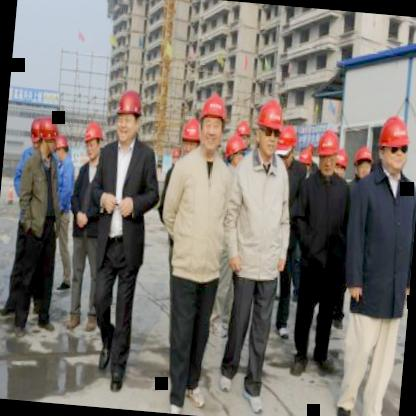helmet: (374, 113, 414, 176), (195, 90, 230, 153), (112, 88, 146, 148), (253, 98, 286, 157), (313, 130, 343, 178), (278, 122, 302, 176), (223, 132, 248, 178), (82, 119, 106, 164), (178, 117, 203, 160), (37, 111, 57, 156), (351, 145, 375, 182), (332, 144, 352, 186), (52, 130, 72, 166), (27, 116, 43, 160)
